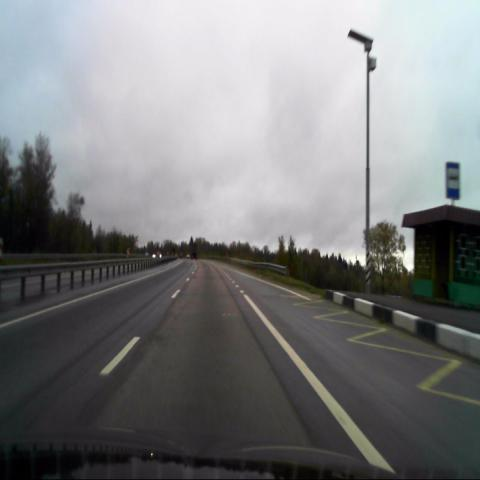5_16: (446, 163, 460, 199)
